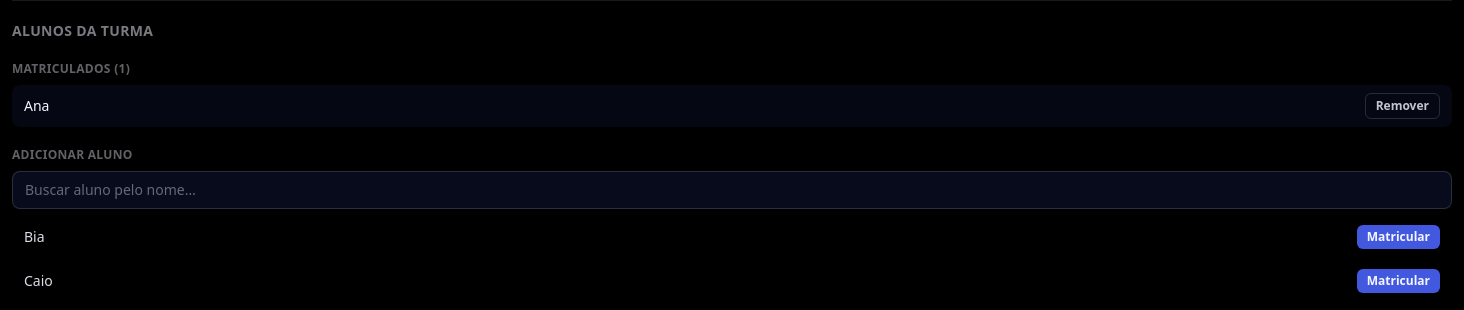
it: ClassRoster (G2) › a busca filtra os candidatos pelo nome
The width and height of the screenshot is (1464, 310).
In the search field labelled "Buscar aluno pelo nome…": (732, 190) [12, 171, 1452, 209], type "cai"
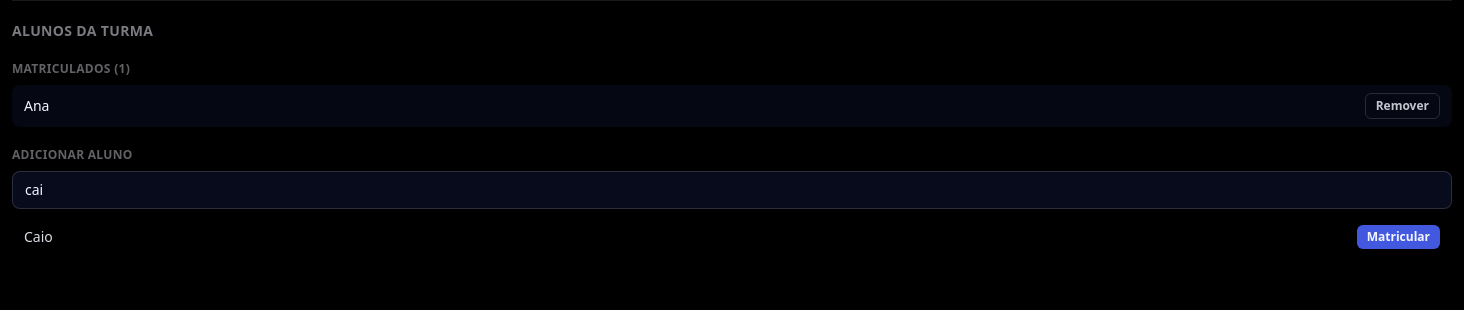
Expected: the text "Caio" is shown, [24, 227, 53, 247]
Result: the text "Bia" is gone
